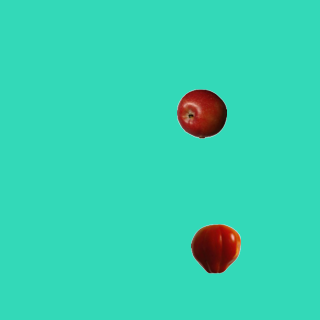Apple Braeburn: (176, 88, 226, 138)
Tomato 1: (190, 223, 240, 273)
